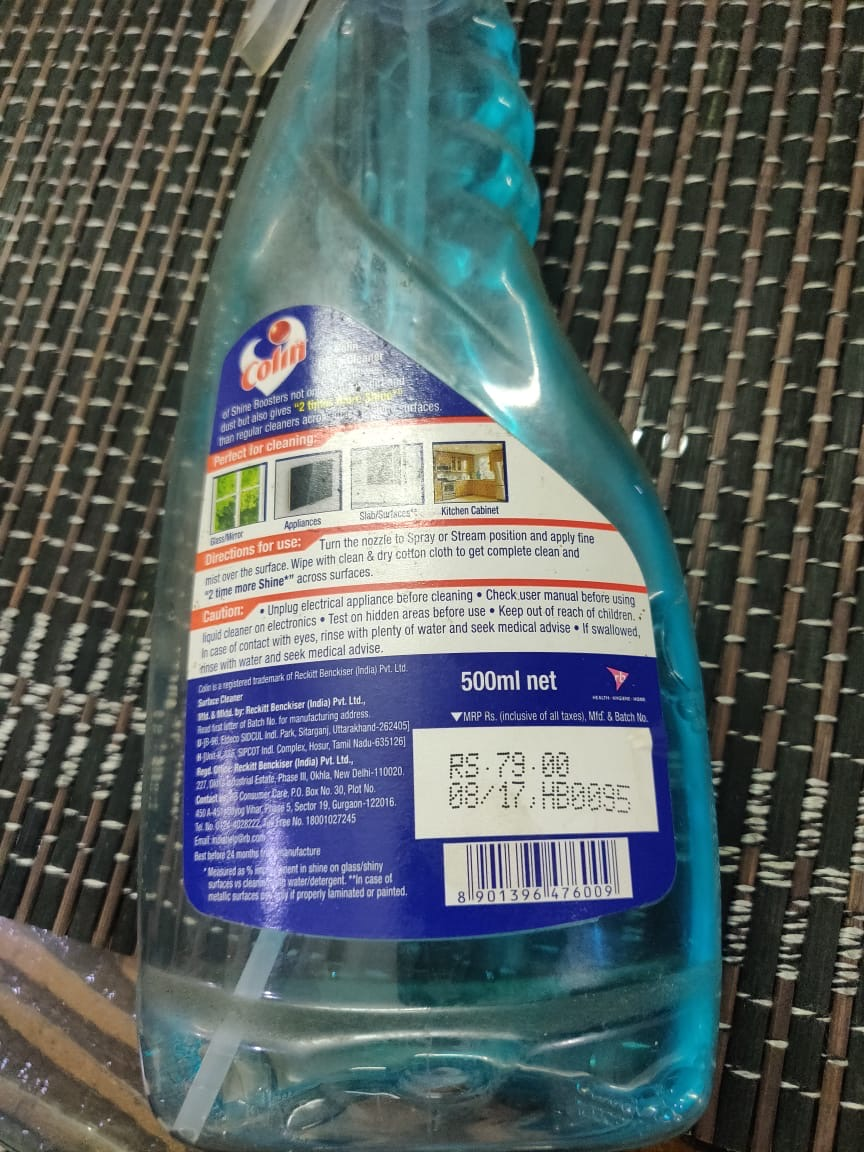barcode: (437, 837, 642, 902)
